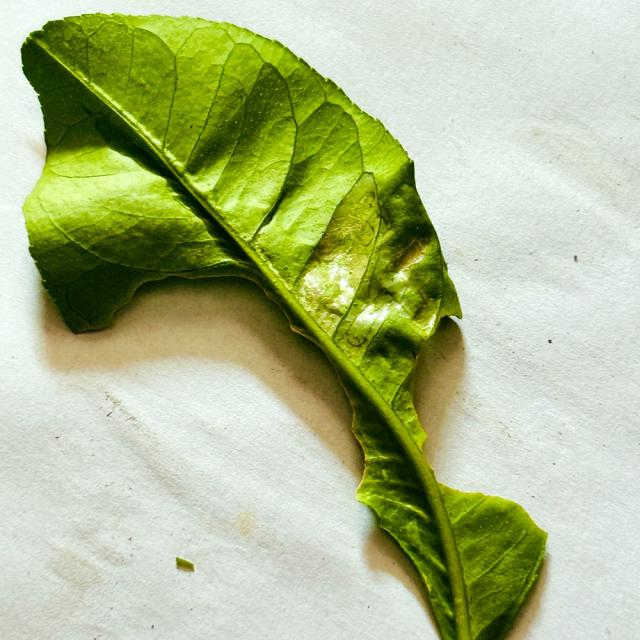Deficiency Leaf: (65, 278, 362, 547), (412, 318, 534, 500)
Lemon: (21, 13, 547, 639)
